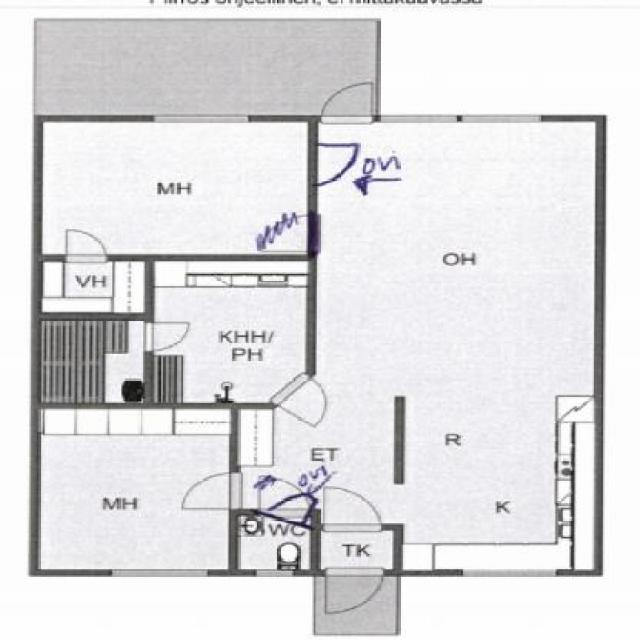door: (263, 374, 343, 435), (317, 481, 386, 537), (323, 569, 388, 620), (171, 474, 249, 515), (315, 82, 380, 129), (255, 472, 312, 522), (63, 228, 114, 264), (142, 323, 198, 354)
window: (456, 112, 546, 125), (380, 112, 458, 125), (110, 568, 208, 578), (148, 114, 248, 123), (461, 569, 557, 577), (254, 568, 295, 580)
zone: (249, 126, 606, 571), (45, 118, 308, 255), (34, 17, 378, 117), (37, 409, 232, 569), (152, 259, 305, 406), (42, 320, 144, 405), (42, 263, 140, 311), (322, 528, 396, 575), (240, 518, 306, 570)
